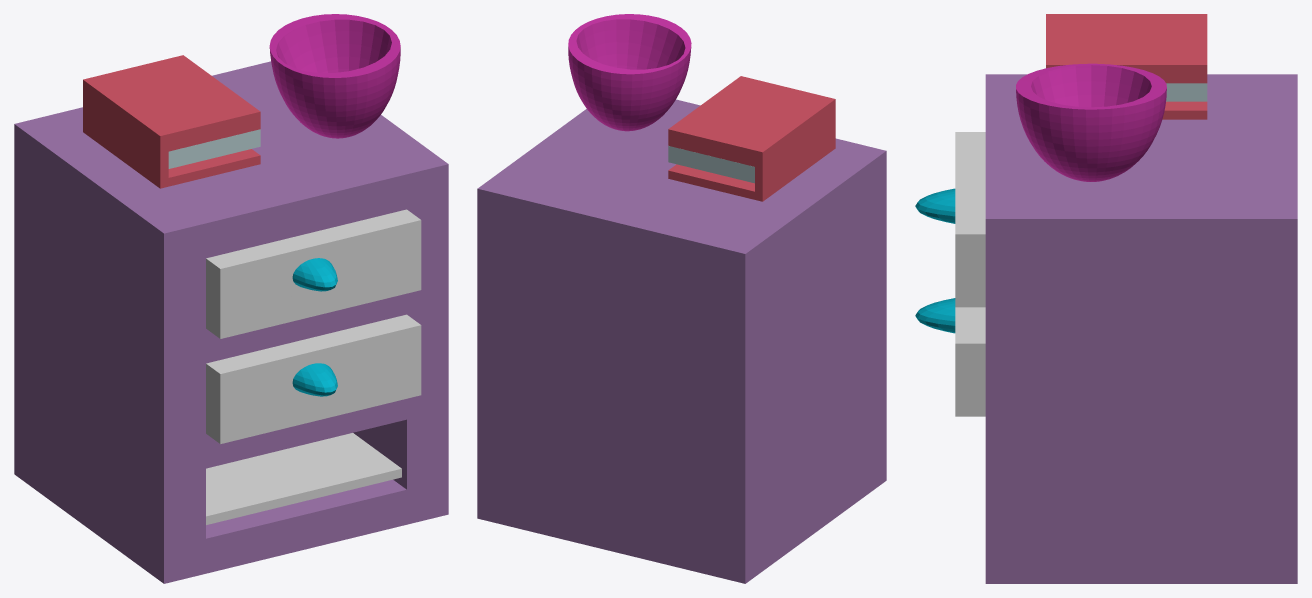
File: Sizzling Trug-Inari.glb
3 renders of one model, left to right at view 1: azimuth 30°, elevation 25°; view 2: azimuth 150°, elevation 25°; view 3: azimuth 270°, elevation 25°, orthographic. The views are drawn at different scales.
Visible parts, largest first — view 1: Mesh_Mesh_head_geo.001_lambert2SG.001; view 2: Mesh_Mesh_head_geo.001_lambert2SG.001; view 3: Mesh_Mesh_head_geo.001_lambert2SG.001.
Part boxes in pixels (left/top/right/bottom): Mesh_Mesh_head_geo.001_lambert2SG.001: left=14, top=14, right=448, bottom=583; Mesh_Mesh_head_geo.001_lambert2SG.001: left=477, top=14, right=886, bottom=583; Mesh_Mesh_head_geo.001_lambert2SG.001: left=915, top=14, right=1297, bottom=583.
Bounding box in the file's own units: 34 × 51.52 × 38.
